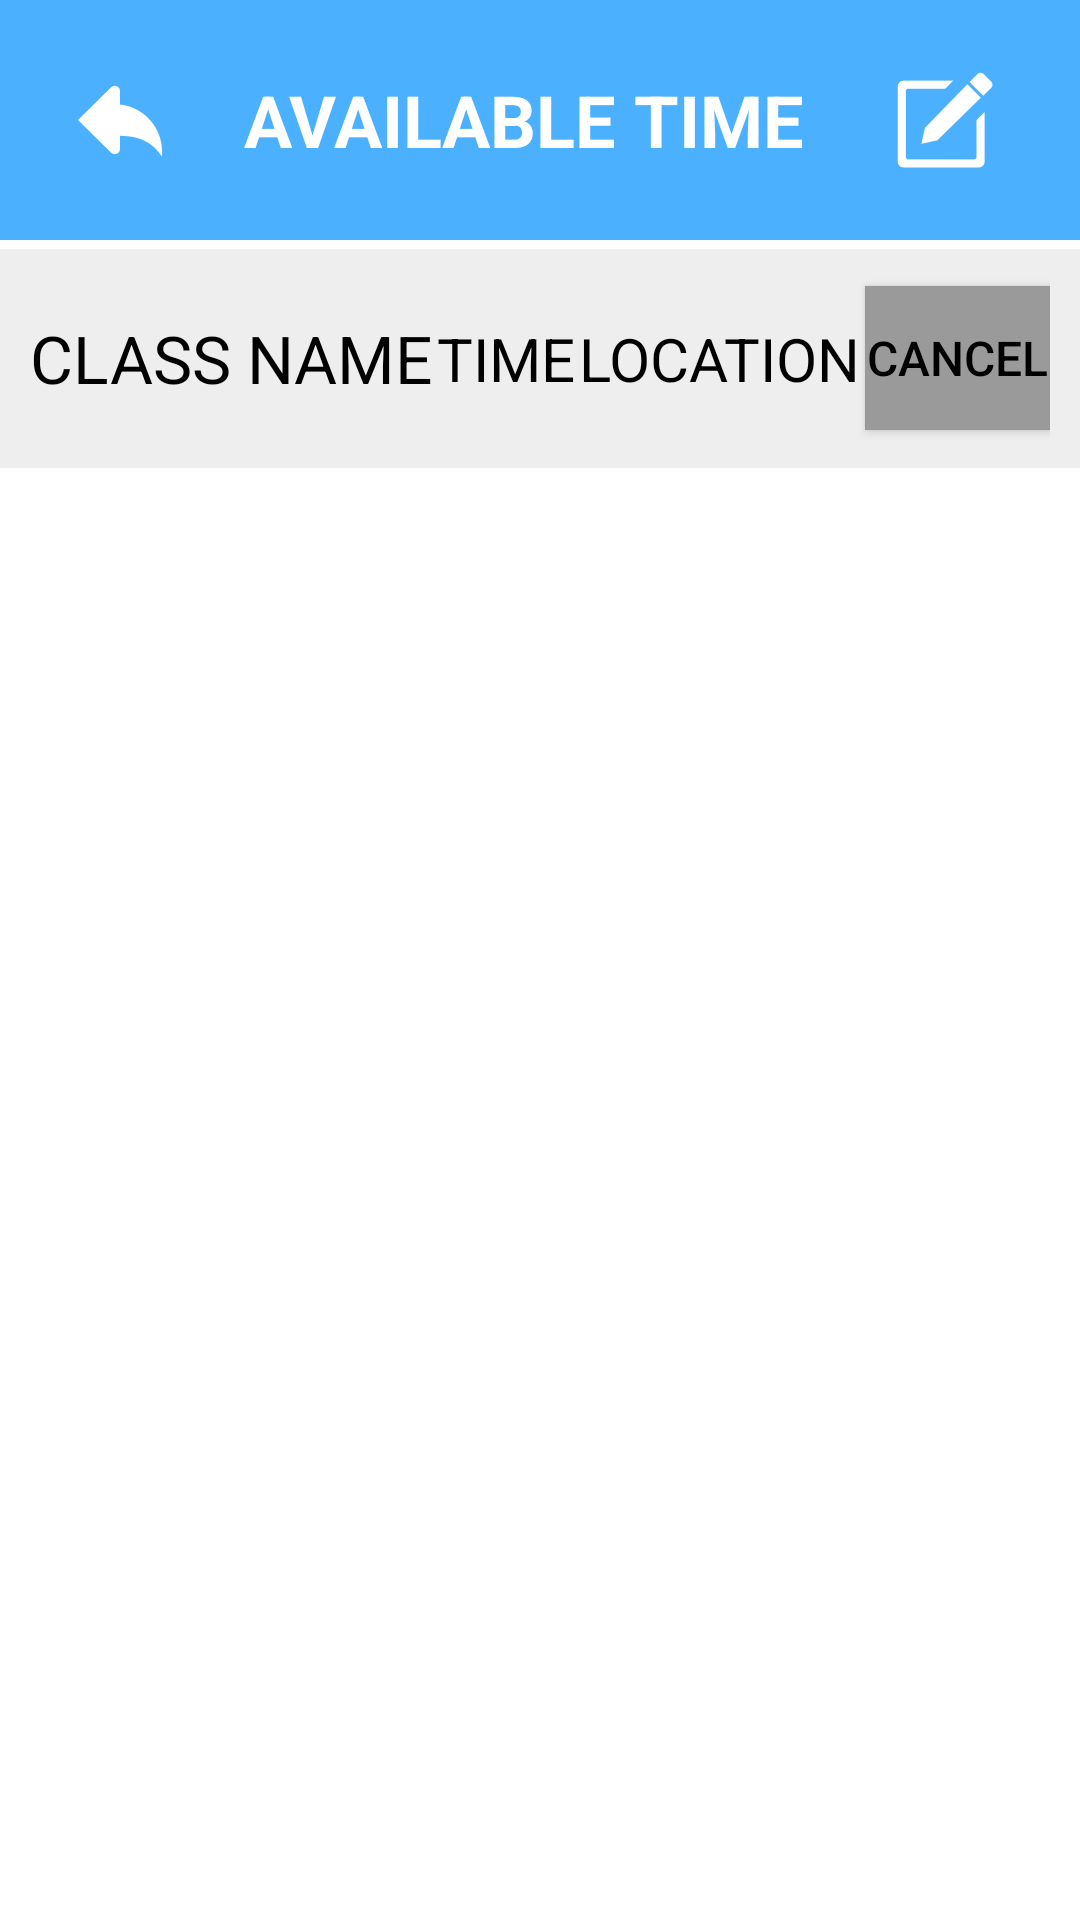

Screen size 1080×1920. Icon name, then its box in pixels as (x1, y1, x2, y2):
compose: (897, 72, 993, 168)
